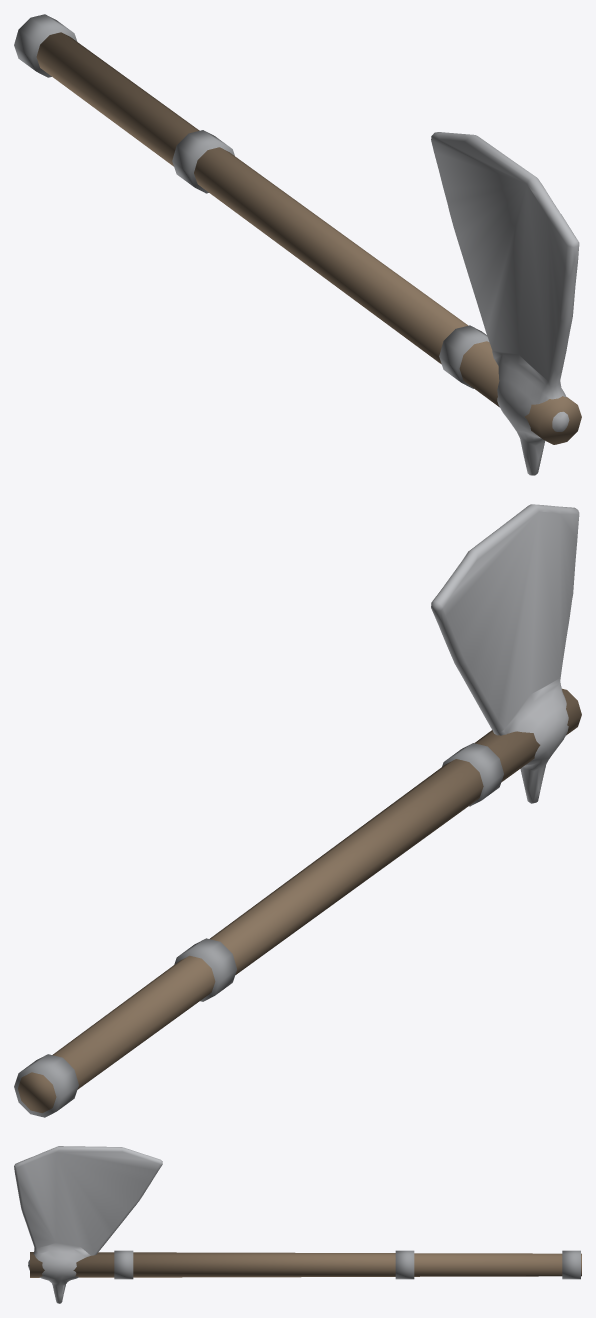
Rendered from Axe.fbx.
3 renders of one model, top to bottom at view 1: azimuth 30°, elevation 25°; view 2: azimuth 150°, elevation 25°; view 3: azimuth 270°, elevation 25°, orthographic. The views are drawn at different scales.
Visible parts, largest first — view 1: Axe; view 2: Axe; view 3: Axe.
Part boxes in pixels (bbox=[...]): Axe: bbox=[14, 14, 581, 475]; Axe: bbox=[14, 504, 581, 1117]; Axe: bbox=[14, 1146, 581, 1303].
Size of the model in its own units: 2.8 by 16.67 by 54.54.
